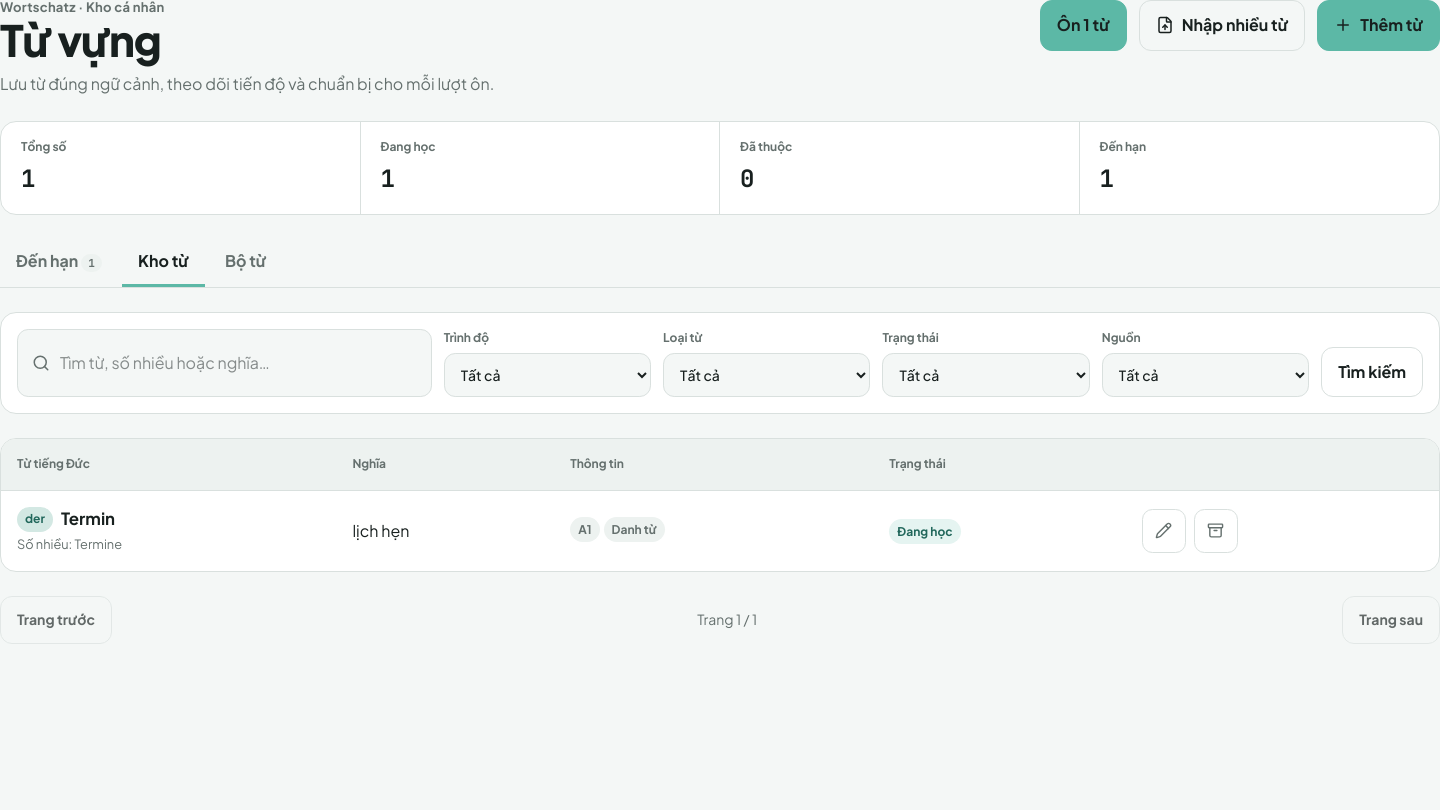
Scenario: VocabularyWorkspace › opens an accessible German-aware word form
expect the heading "Termin" is shown: met, box [61,509,115,530]
Click the button "Thêm từ". click: point(1379, 25)
box: [1317,0,1439,51]
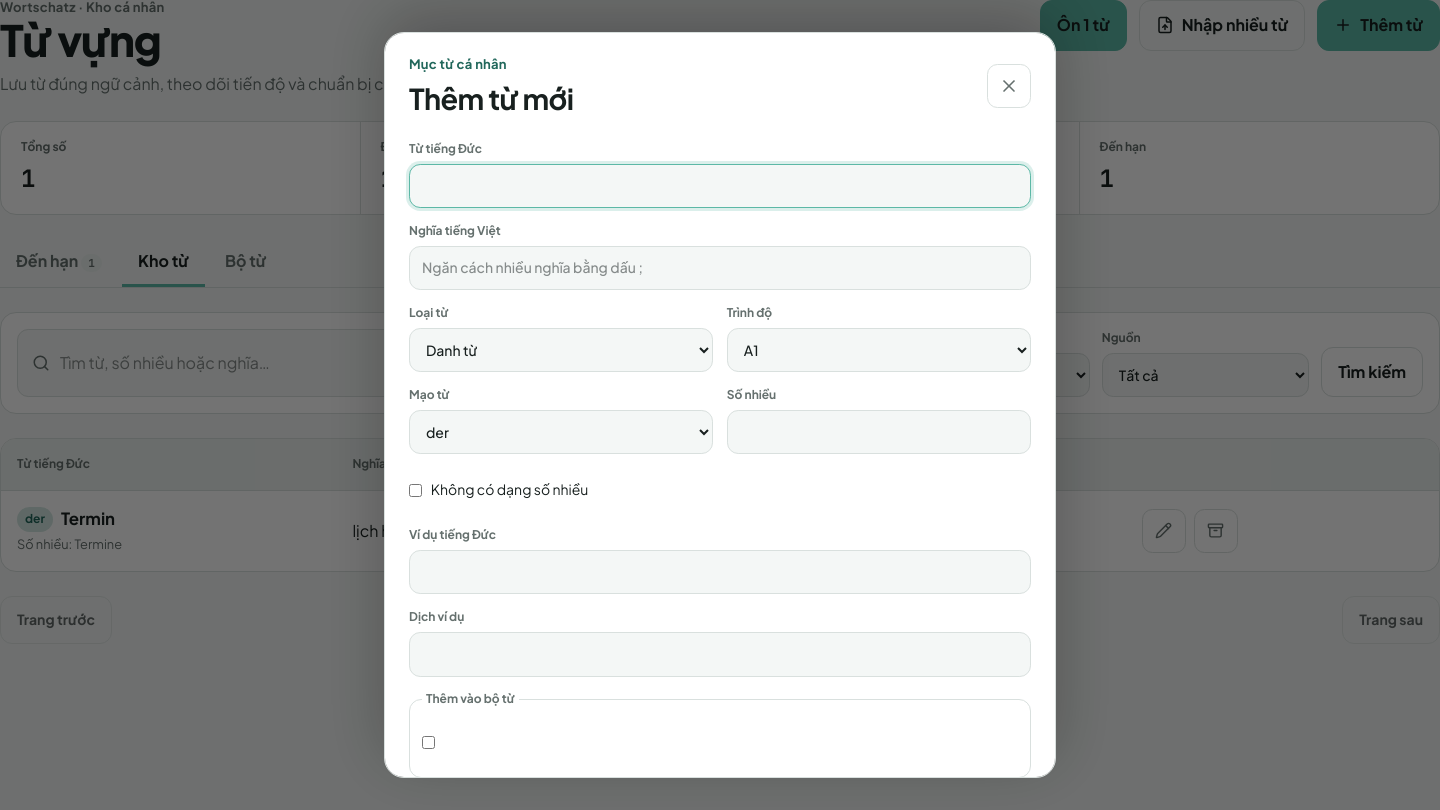
expect the dropdown labelled "Loại từ" is shown: met, box [409,328,713,372]
